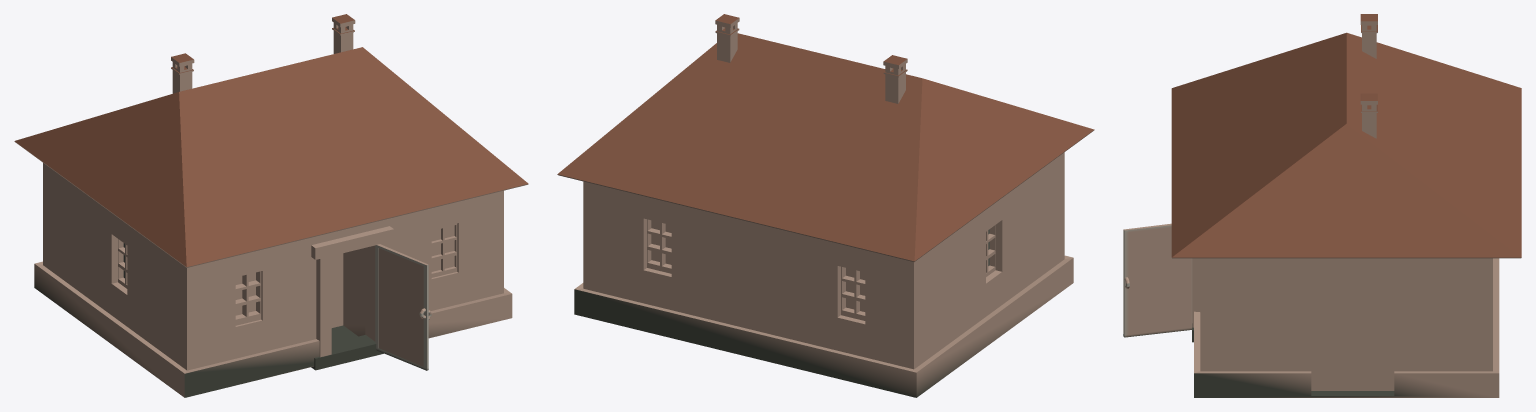
3 views of the same model, side by side, from view 1: azimuth 30°, elevation 25°; view 2: azimuth 150°, elevation 25°; view 3: azimuth 270°, elevation 25° (orthographic). The views are drawn at different scales.
Parts seen in each view (by area): view 1: pTorus3:PIV; view 2: pTorus3:PIV; view 3: pTorus3:PIV.
Part boxes in pixels (x1,y1,x2,y2): pTorus3:PIV: (14,14,528,397); pTorus3:PIV: (557,14,1094,397); pTorus3:PIV: (1123,14,1521,397).
Bounding box in the file's own units: 16.37 × 11.86 × 16.28.
